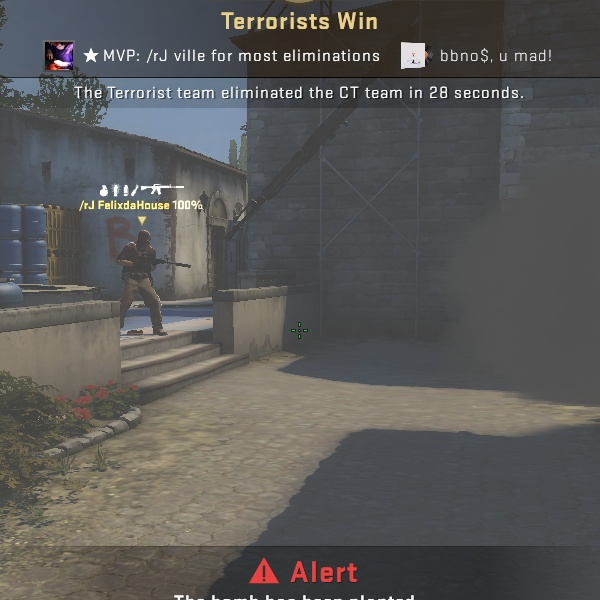t_body: (106, 227, 174, 344)
